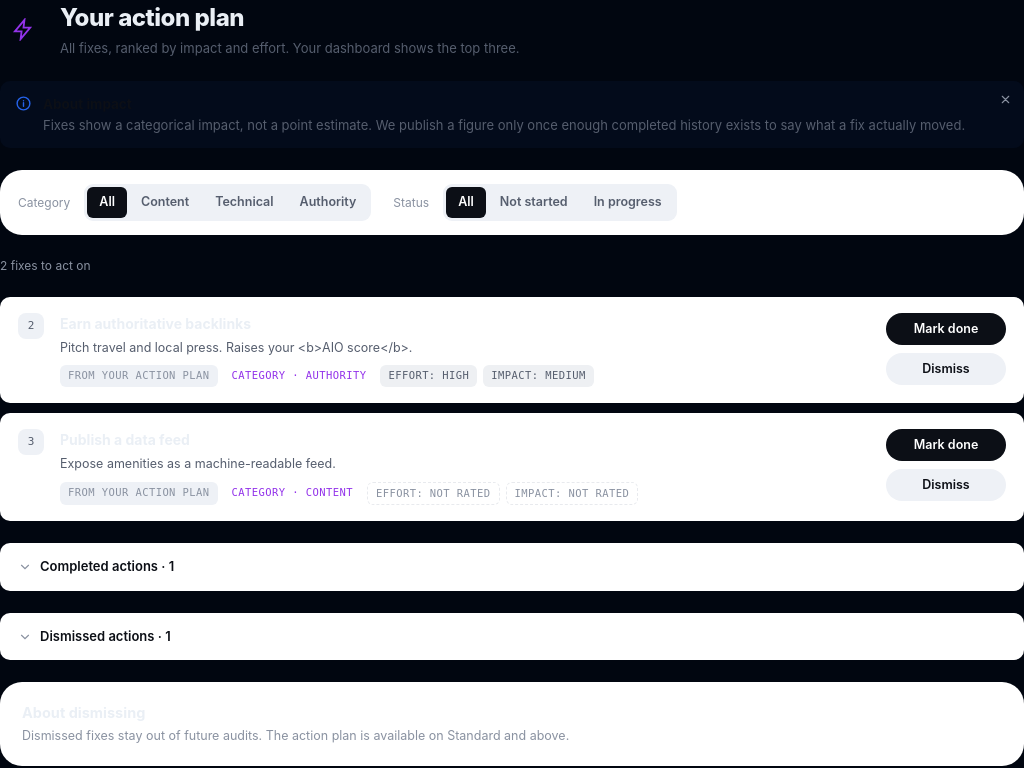
Test: fixes page › keeps a failed restore recoverable
This screenshot has width=1024, height=768.
Click the button with test id "fix-history-dismissed-trigger". click: [105, 636]
box: [0, 613, 1023, 660]
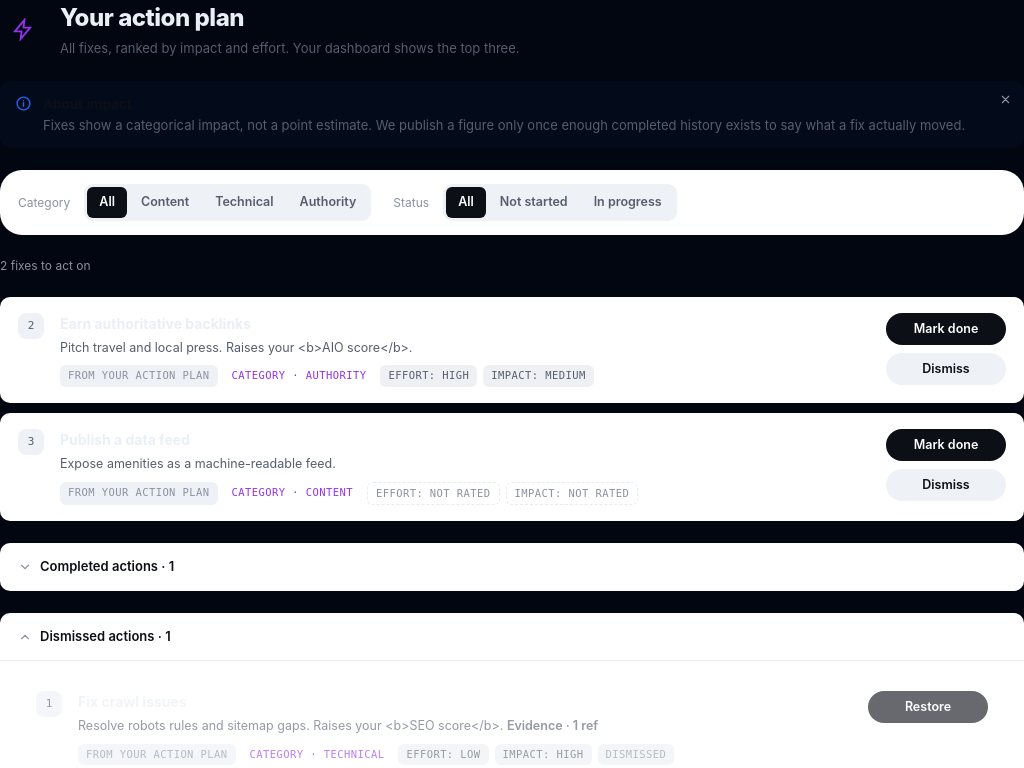
Click the button "Restore". click: [928, 707]
box: [868, 691, 988, 723]
(page scrolled)
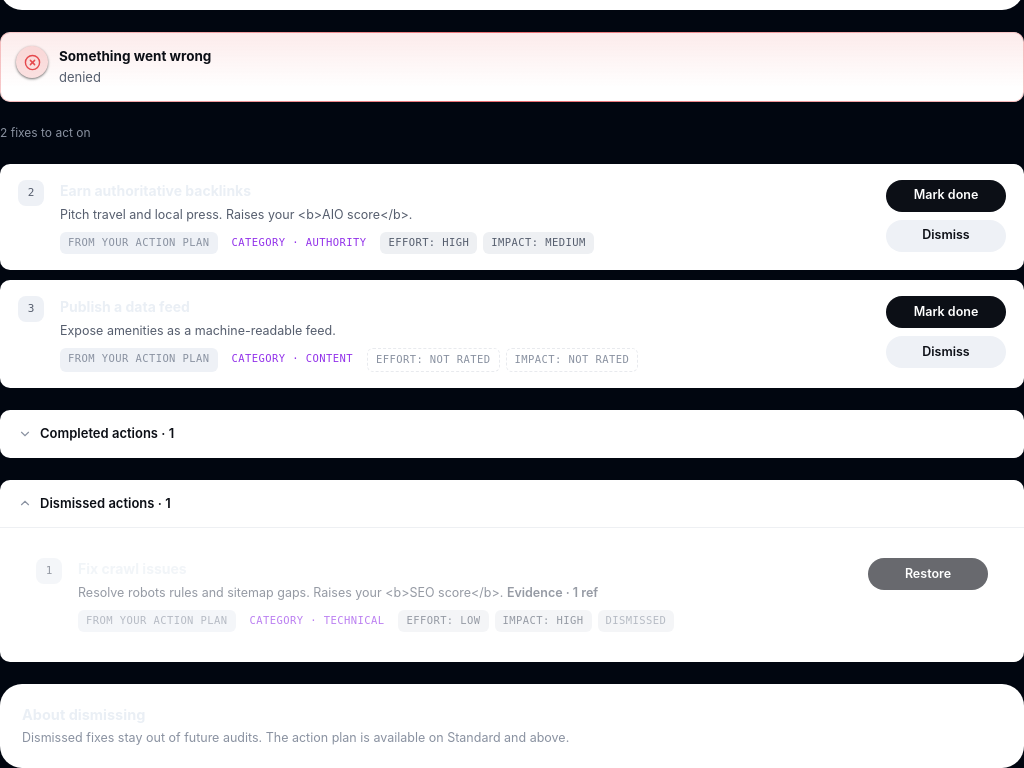
Result: the button "Restore" is enabled at [868, 558, 988, 590]
Result: the number of elements with test id "fix-advisor-action-1" is 1 at [18, 542, 1006, 648]
Result: the message shows "denied" at [59, 69, 101, 85]
